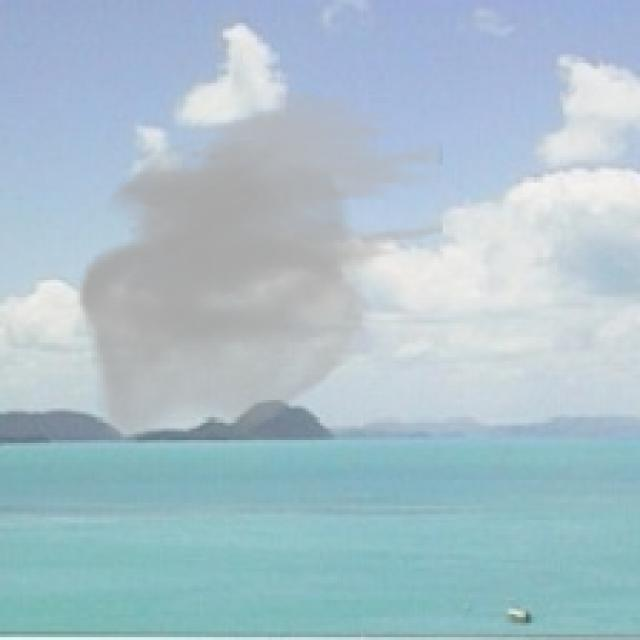smoke: (77, 86, 443, 443)
